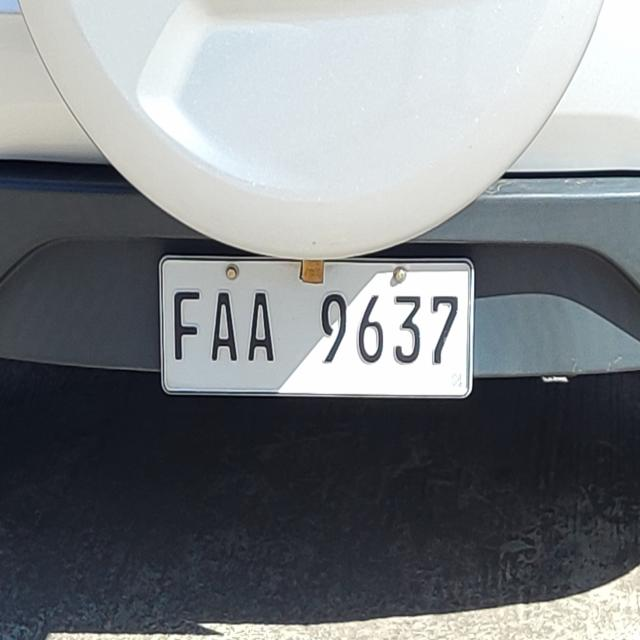plate: (150, 248, 482, 405)
